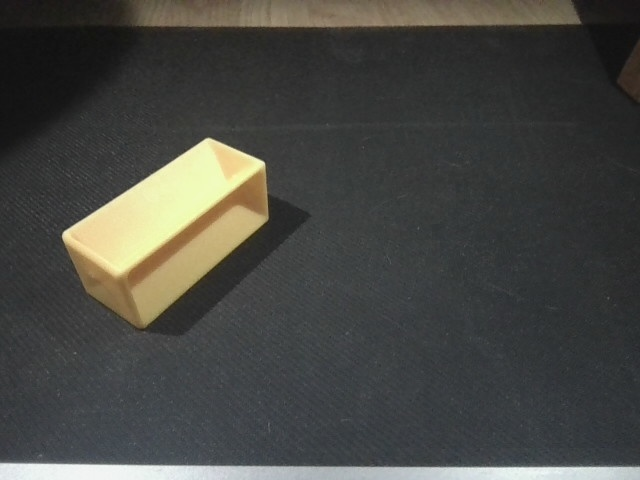YellowSample: (58, 134, 276, 339)
